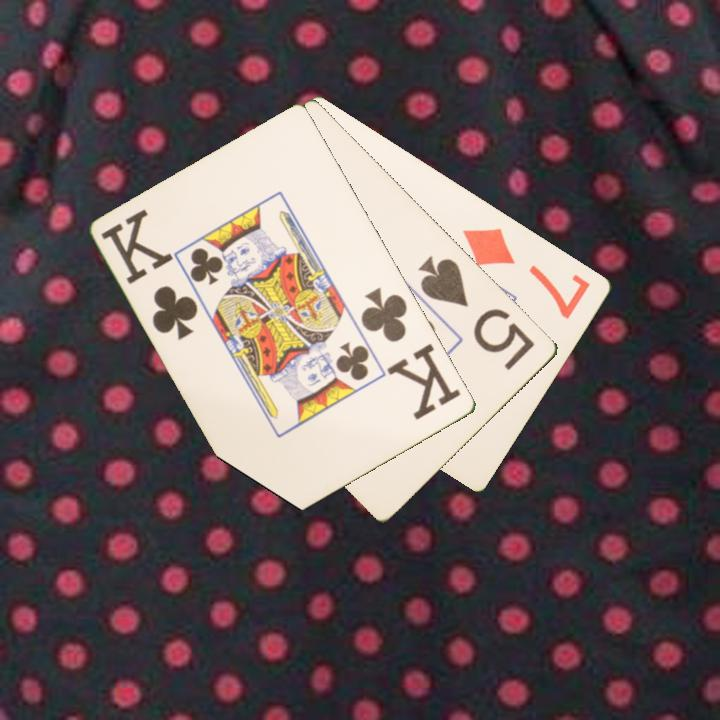5s: (415, 252, 539, 374)
7d: (459, 223, 594, 322)
Kc: (357, 284, 465, 423), (98, 207, 202, 343)
